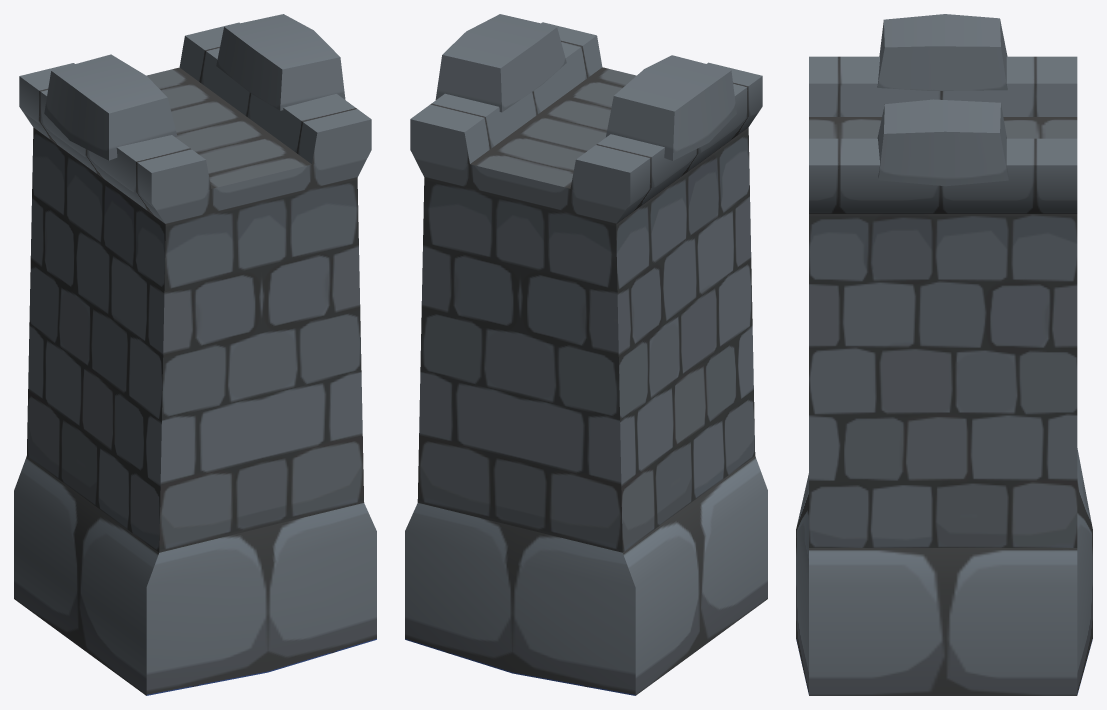
The model's file is Wall_B_1x1.FBX.
3 views of the same model, side by side, from view 1: azimuth 30°, elevation 25°; view 2: azimuth 150°, elevation 25°; view 3: azimuth 270°, elevation 25° (orthographic).
Visible parts, largest first — view 1: Wall_B_1x1; view 2: Wall_B_1x1; view 3: Wall_B_1x1.
Part boxes in pixels (left/top/right/bottom): Wall_B_1x1: left=14, top=14, right=376, bottom=695; Wall_B_1x1: left=405, top=14, right=767, bottom=695; Wall_B_1x1: left=796, top=14, right=1092, bottom=695.
Bounding box in the file's own units: 216 × 466 × 221.
